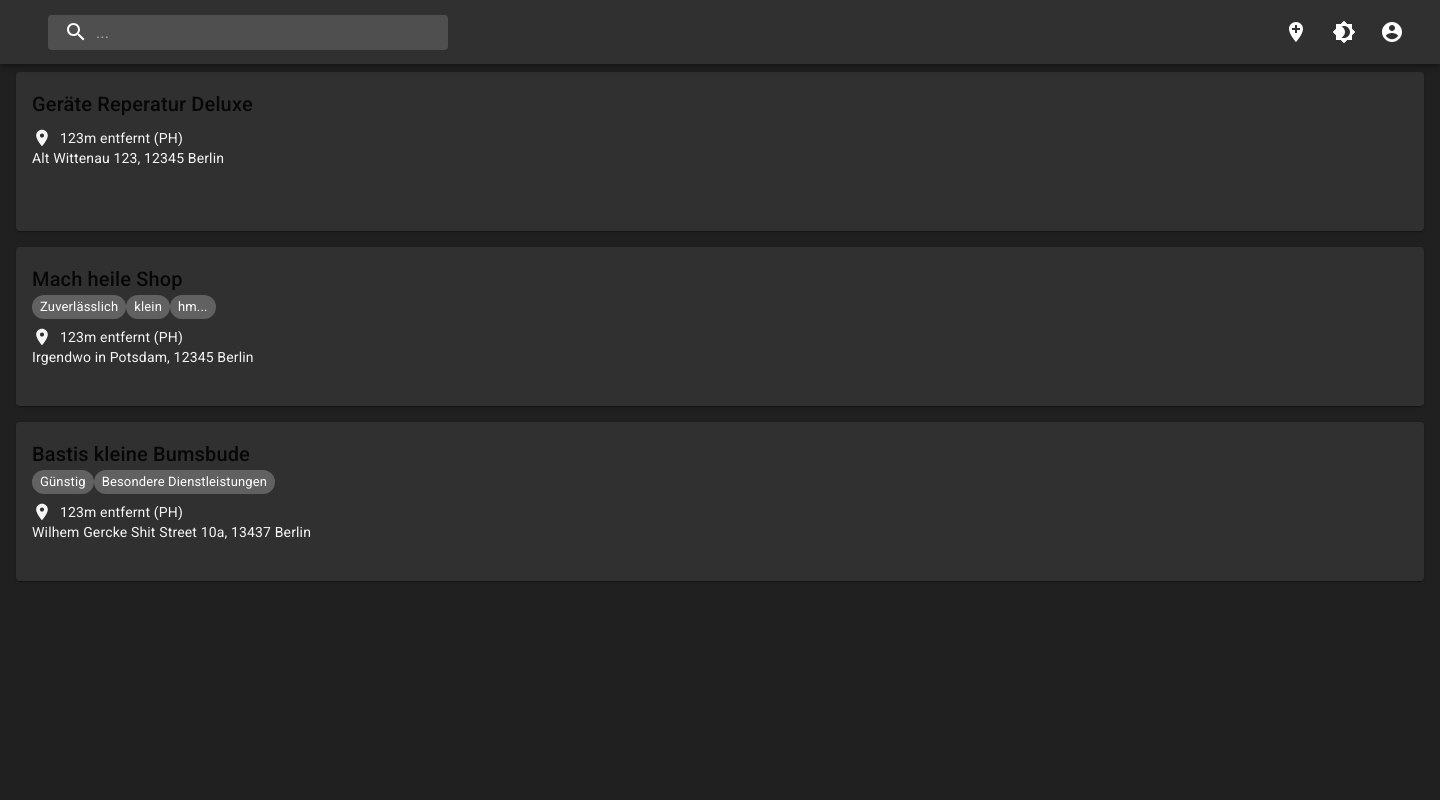
login › viewport:macbook-15
Click the button with test id "account-icon" at (1392, 32), box 1368,8 -> 1416,56
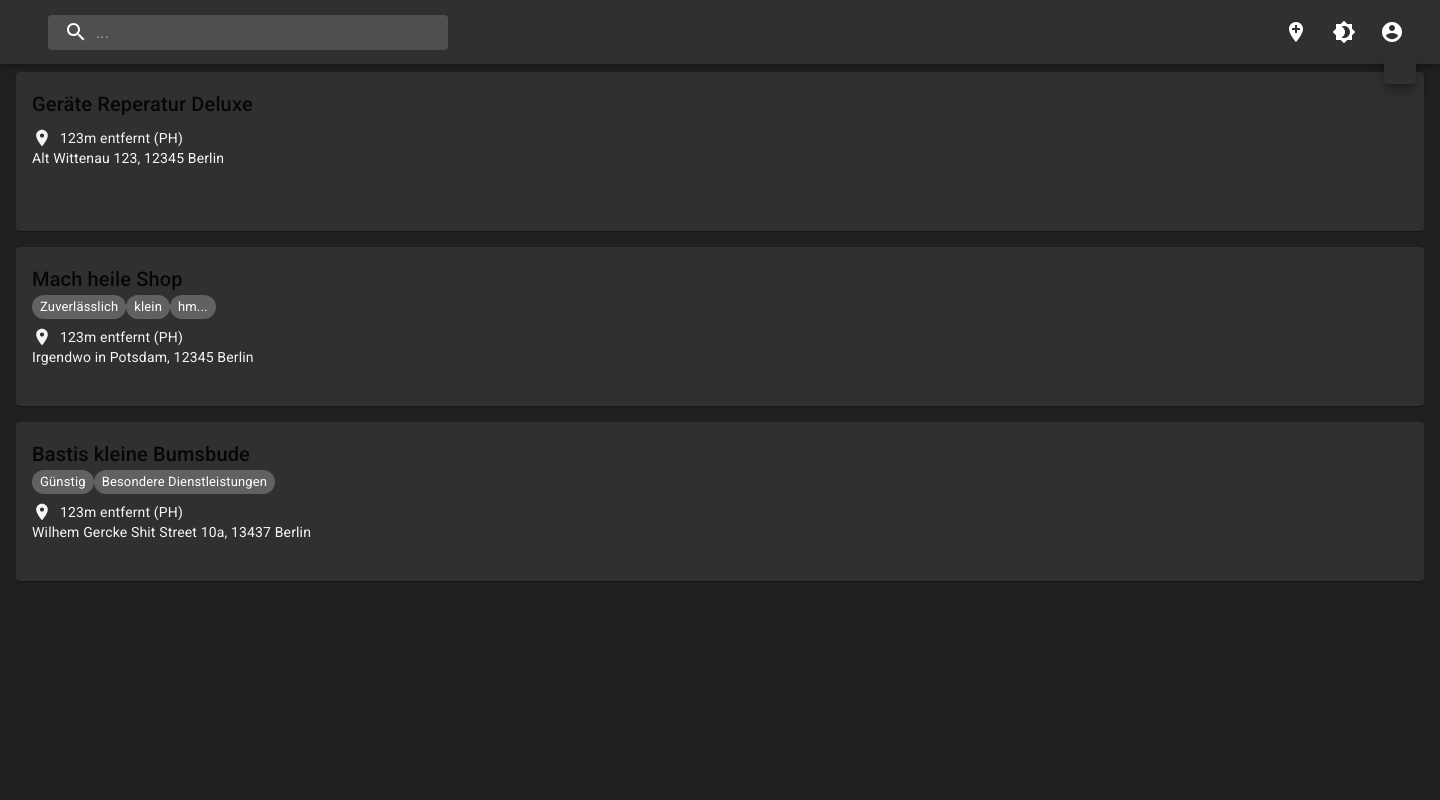
Now the menu item to "/signin" is shown, box 1384,64 -> 1416,76
